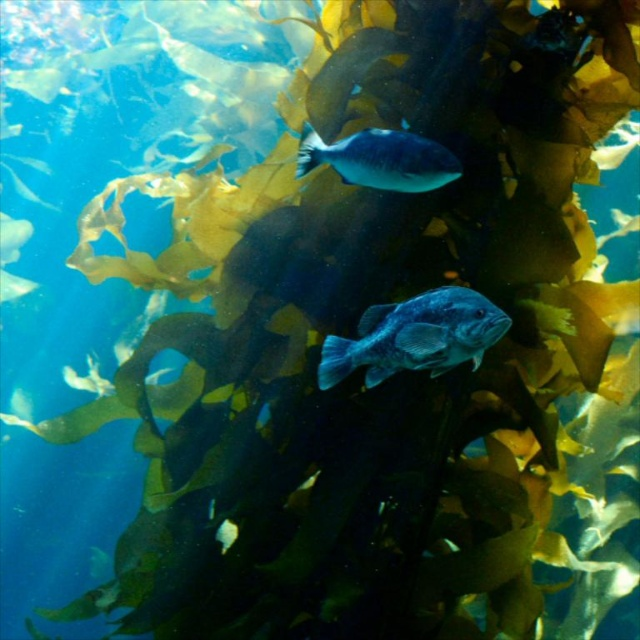Fish: (317, 285, 513, 390), (295, 118, 463, 194)
